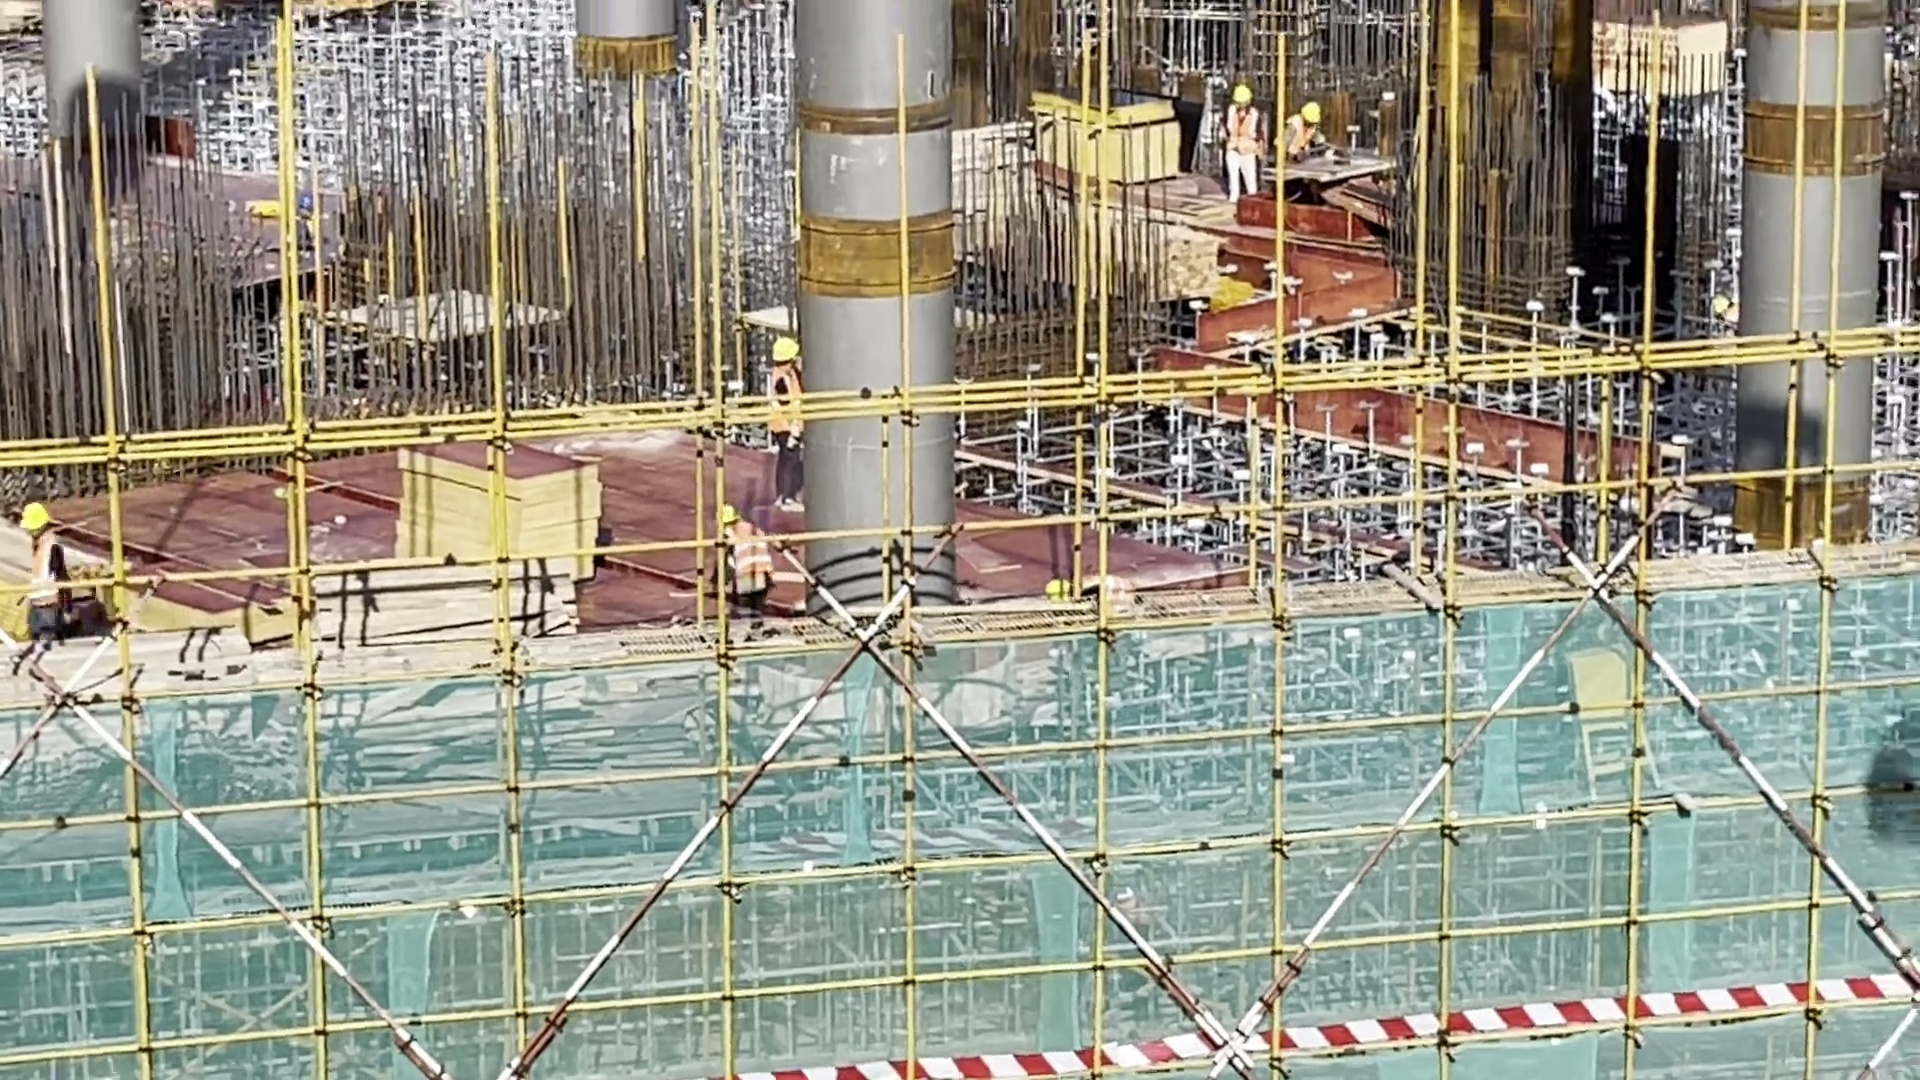board: (398, 406, 595, 615), (1041, 63, 1176, 187)
ebox: (1566, 642, 1663, 798)
helmet: (13, 495, 59, 547), (765, 330, 800, 373), (1291, 93, 1327, 133), (1223, 81, 1261, 113)
person: (20, 491, 79, 665), (769, 330, 818, 522), (725, 502, 781, 629), (1223, 79, 1269, 208), (1279, 94, 1334, 177)
vest: (25, 530, 67, 622), (720, 522, 775, 582), (767, 369, 809, 444), (1223, 106, 1265, 168), (1280, 115, 1320, 161)
wood: (287, 564, 579, 706), (2, 516, 122, 655)
